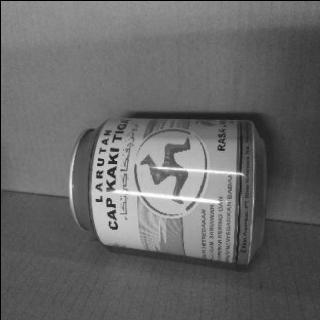alumunium_can: (63, 104, 271, 268)
